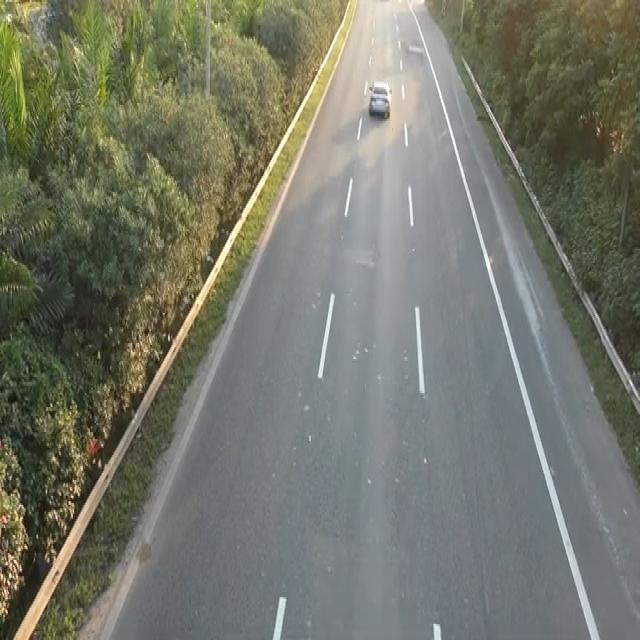bus: (367, 78, 392, 119)
